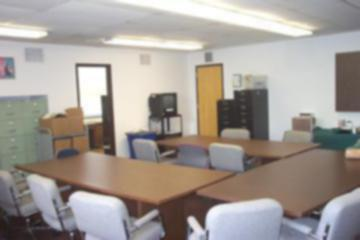Armario: (229, 90, 264, 142), (213, 99, 236, 137)
Electrodomestico: (148, 89, 180, 135)
Otro Obstaculo: (30, 107, 86, 162)
Puerta: (196, 64, 221, 135)
